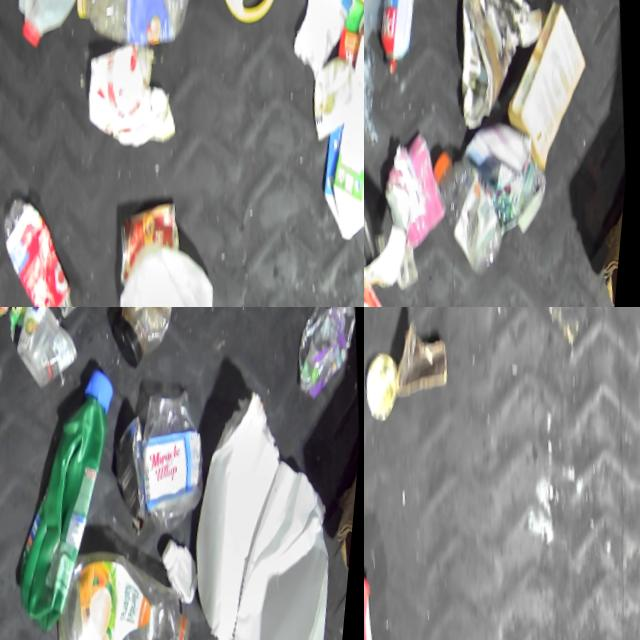can: (116, 203, 195, 289), (364, 350, 409, 424)
milk_jug: (107, 236, 247, 307), (0, 0, 115, 50)
non_white_jug: (0, 363, 148, 640), (50, 535, 212, 640)
plastic_bottle: (0, 183, 100, 307), (426, 145, 516, 282), (65, 0, 202, 57)
